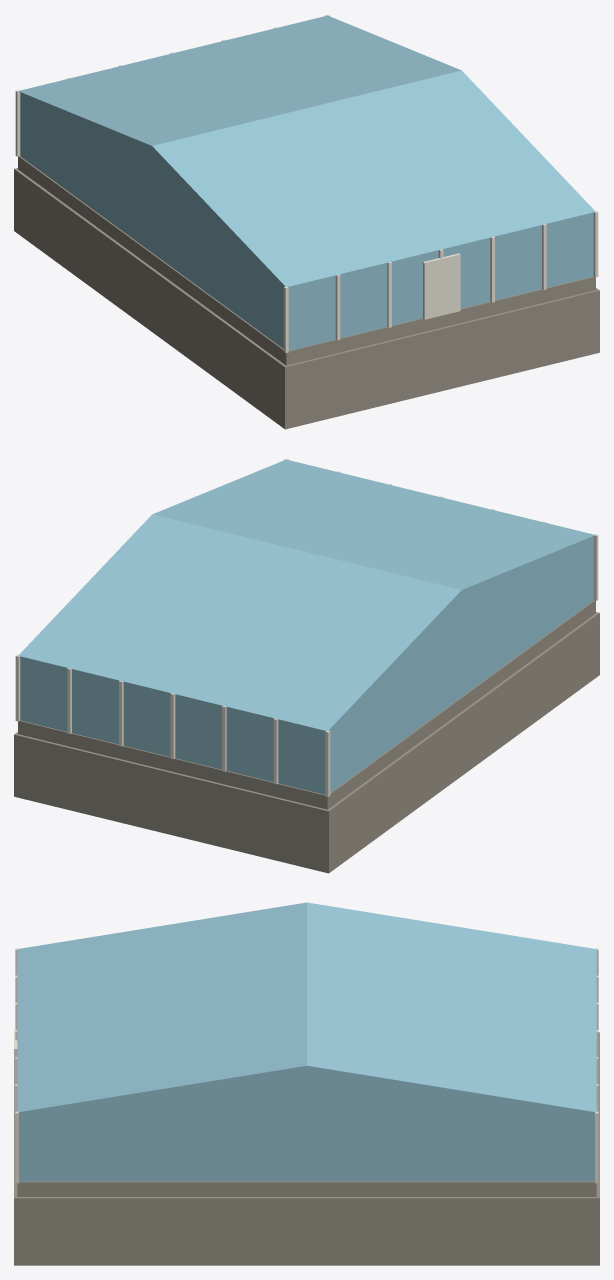
The model's file is greenhouse.glb.
3 views of the same model, one above another, from view 1: azimuth 30°, elevation 25°; view 2: azimuth 150°, elevation 25°; view 3: azimuth 270°, elevation 25° (orthographic). The views are drawn at different scales.
Visible parts, largest first — view 1: greenhouse-col; view 2: greenhouse-col; view 3: greenhouse-col.
Part boxes in pixels (box(x1,y1,x2,y2)): greenhouse-col: box(14, 14, 599, 429); greenhouse-col: box(14, 458, 599, 873); greenhouse-col: box(14, 902, 599, 1265).
Bounding box in the file's own units: 12.2 × 6.8 × 18.2.
